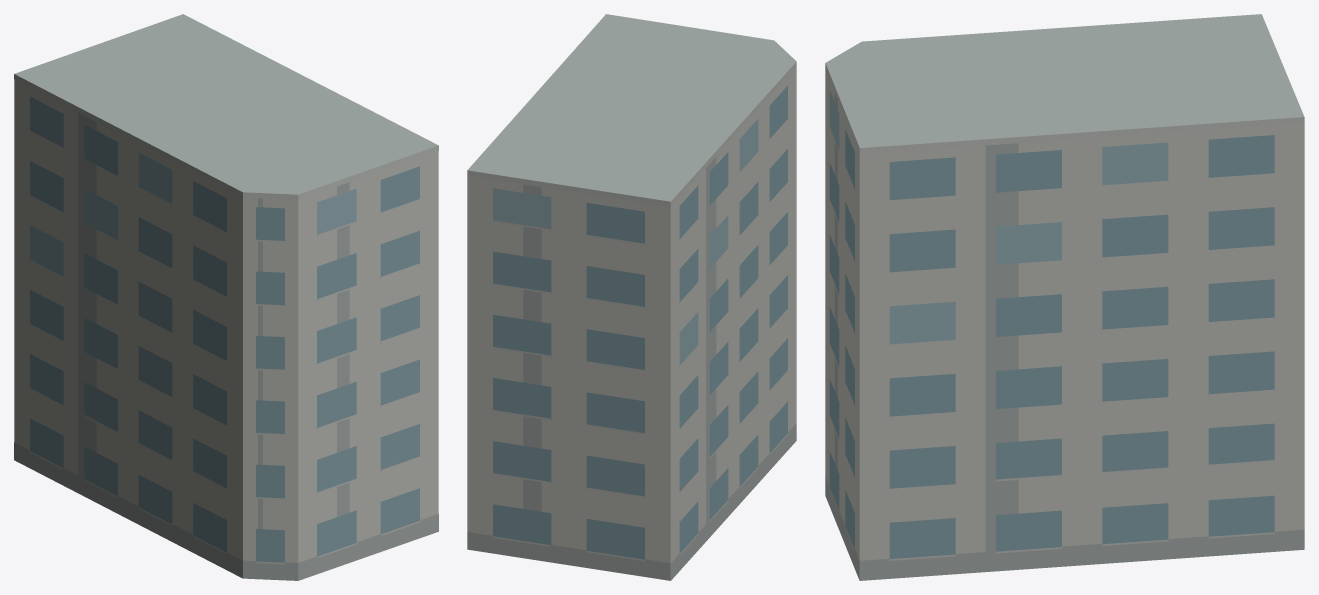
File: survey-upis-32972197.glb
3 views of the same model, side by side, from view 1: azimuth 30°, elevation 25°; view 2: azimuth 150°, elevation 25°; view 3: azimuth 270°, elevation 25° (orthographic). The views are drawn at different scales.
Visible parts, largest first — view 1: survey-upis-32972197.tmp; view 2: survey-upis-32972197.tmp; view 3: survey-upis-32972197.tmp.
Boxes of the visible parts, x1,y1,x2,y2 form: survey-upis-32972197.tmp: [14, 14, 438, 580]; survey-upis-32972197.tmp: [467, 14, 796, 580]; survey-upis-32972197.tmp: [825, 14, 1304, 580].
Size of the model in its own units: 11.37 by 17.1 by 17.17.
